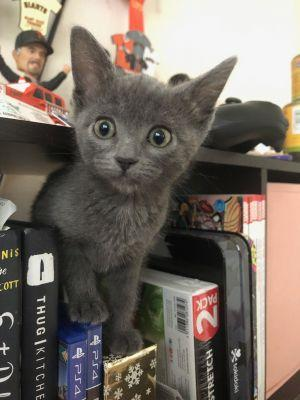rblue: (55, 22, 245, 212)
